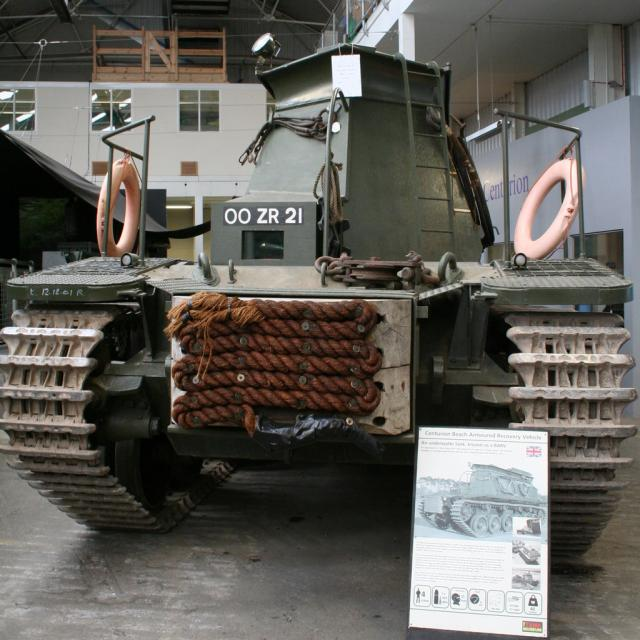tank: (0, 36, 638, 554), (416, 464, 546, 536)
